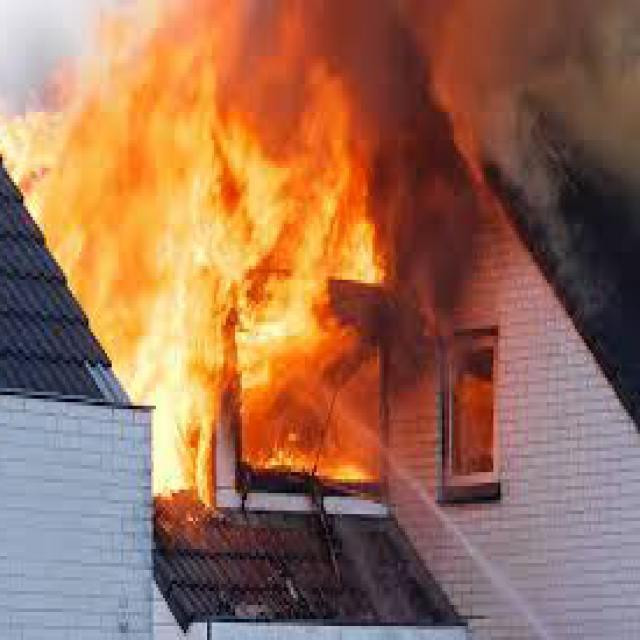Fire: (0, 0, 398, 538)
Smoke: (386, 0, 638, 315)
